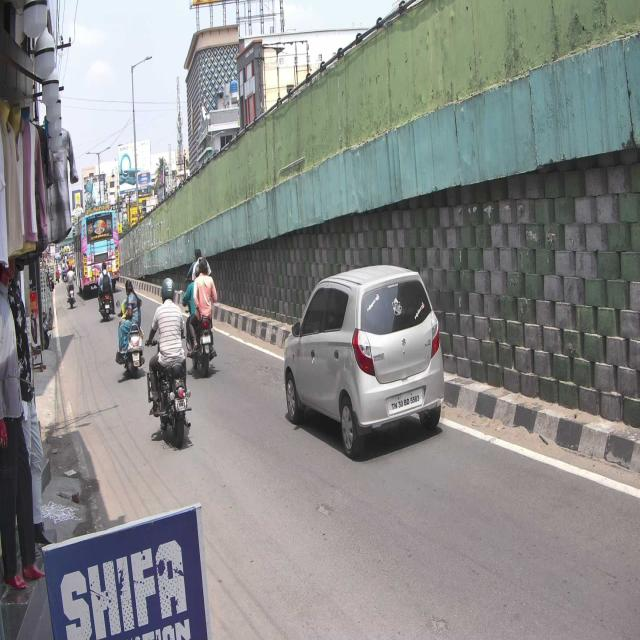single_rider: (148, 276, 194, 452)
